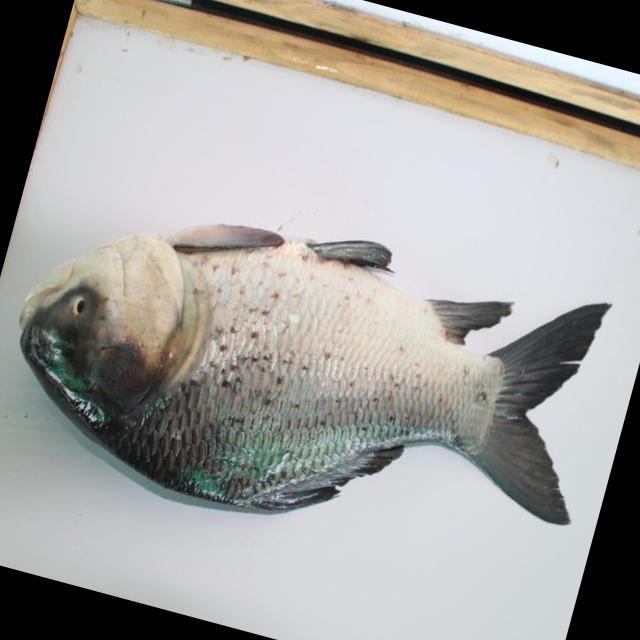Catla: (10, 212, 611, 571)
